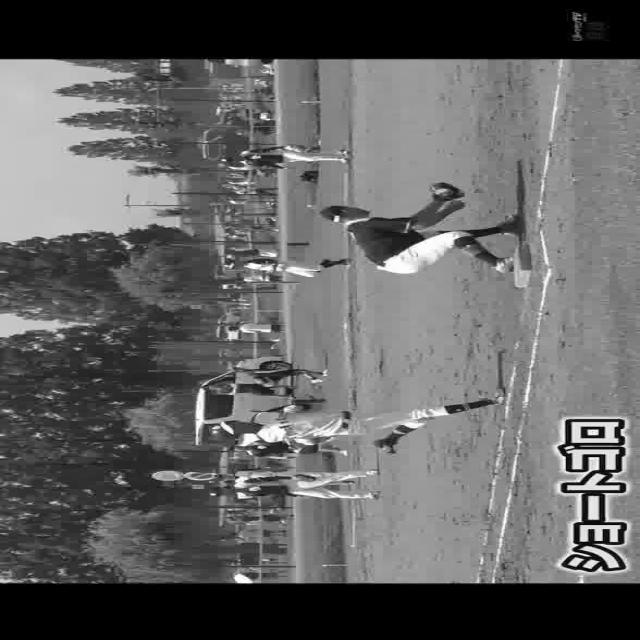base: (514, 240, 540, 290)
baseball_glove: (426, 178, 464, 204), (293, 469, 319, 482)
shoe: (488, 252, 520, 274), (368, 439, 406, 455), (491, 380, 514, 404), (502, 211, 522, 237)
